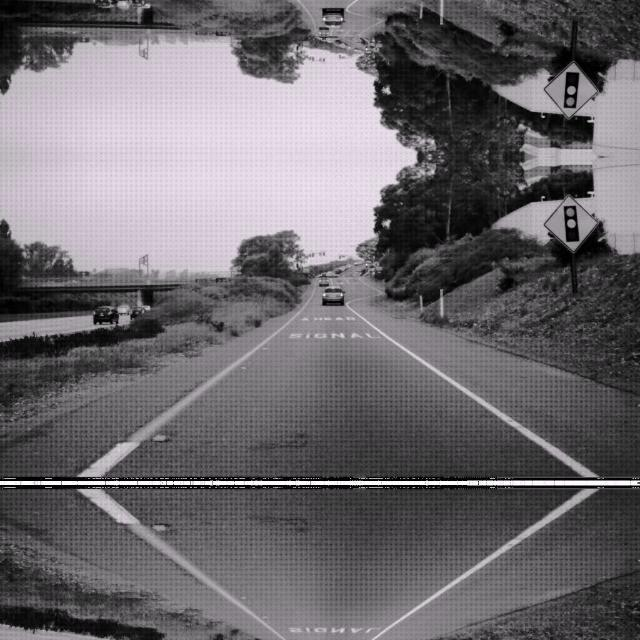signalAhead: (542, 193, 598, 251), (542, 61, 598, 119)
